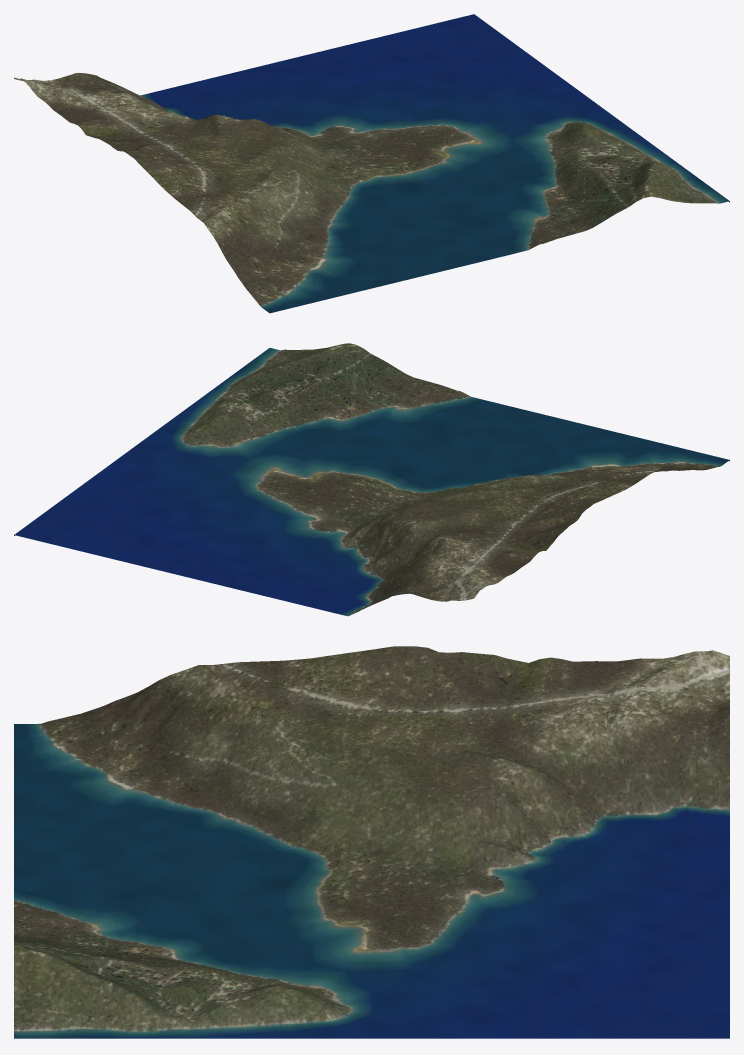
3 views of the same model, one above another, from view 1: azimuth 30°, elevation 25°; view 2: azimuth 150°, elevation 25°; view 3: azimuth 270°, elevation 25° (orthographic). The views are drawn at different scales.
Bounding box in the file's own units: 2000 × 237 × 1925.
Materials: 1 (1 with a texture image).
